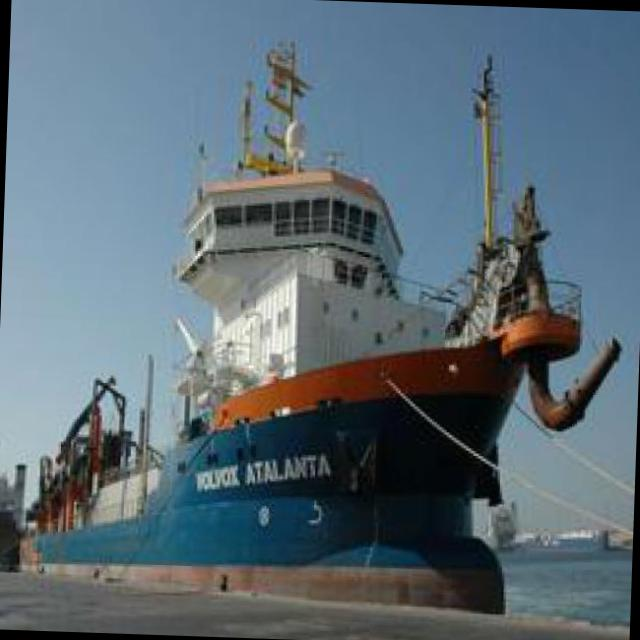boat: (61, 151, 628, 609)
